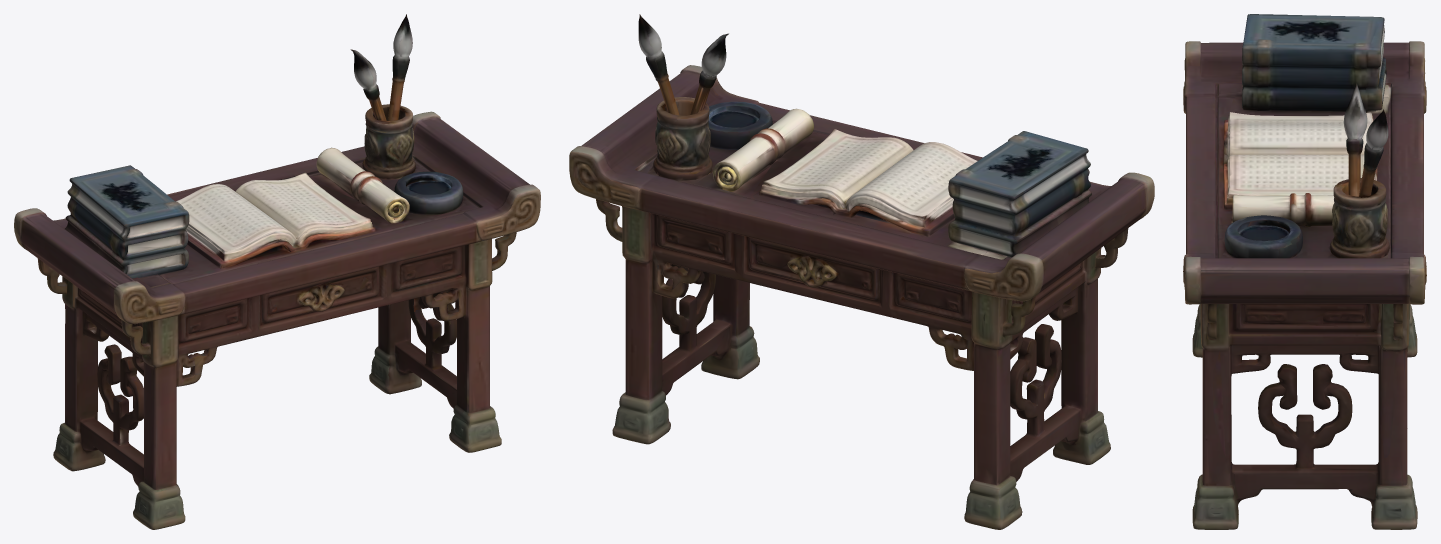
Rendered from desk_books.glb.
3 views of the same model, side by side, from view 1: azimuth 30°, elevation 25°; view 2: azimuth 150°, elevation 25°; view 3: azimuth 270°, elevation 25° (orthographic). The views are drawn at different scales.
Visible parts, largest first — view 1: node_0; view 2: node_0; view 3: node_0.
Boxes of the visible parts, box(x1,y1,x2,y2) form: node_0: box(14, 14, 540, 529); node_0: box(569, 14, 1154, 529); node_0: box(1183, 14, 1426, 529).
Size of the model in its own units: 0.9621 by 0.8112 by 0.4313.
Materials: 1 (1 with a texture image).
